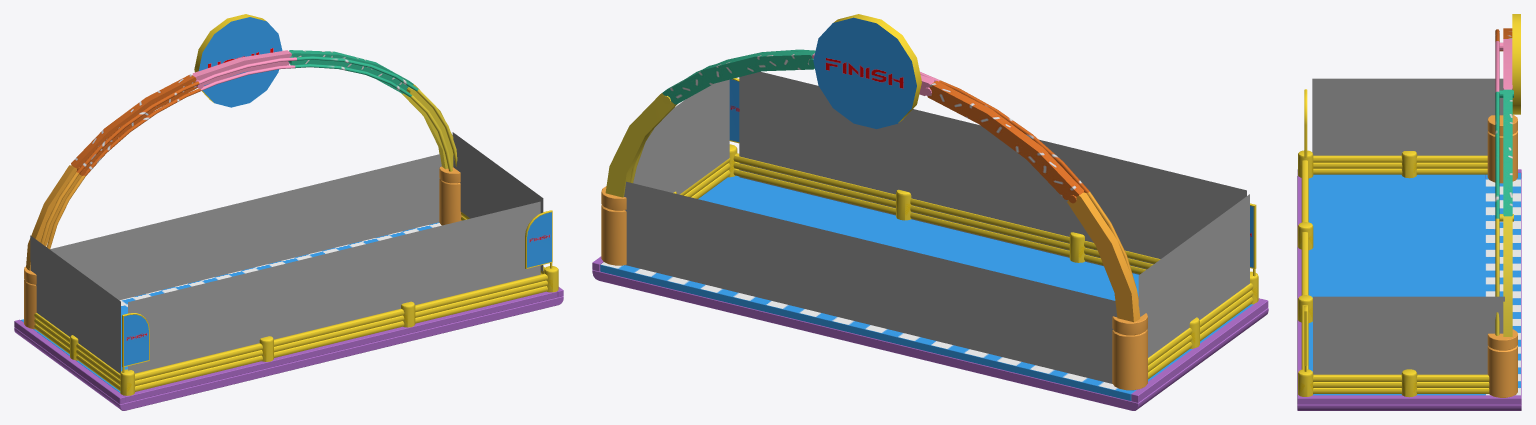
Rendered from SFP0210002.fbx.
3 renders of one model, left to right at view 1: azimuth 30°, elevation 25°; view 2: azimuth 150°, elevation 25°; view 3: azimuth 270°, elevation 25°, orthographic. The views are drawn at different scales.
Parts seen in each view (by area): view 1: smSFP0210002, Trigger_wall; view 2: smSFP0210002, Trigger_wall; view 3: smSFP0210002.
Part boxes in pixels (x1,y1,x2,y2): smSFP0210002: (14,14,563,410); Trigger_wall: (50,154,441,300); smSFP0210002: (592,14,1268,410); Trigger_wall: (624,181,1117,383); smSFP0210002: (1297,14,1521,410).
Bounding box in the file's own units: 1649 × 938 × 682.
